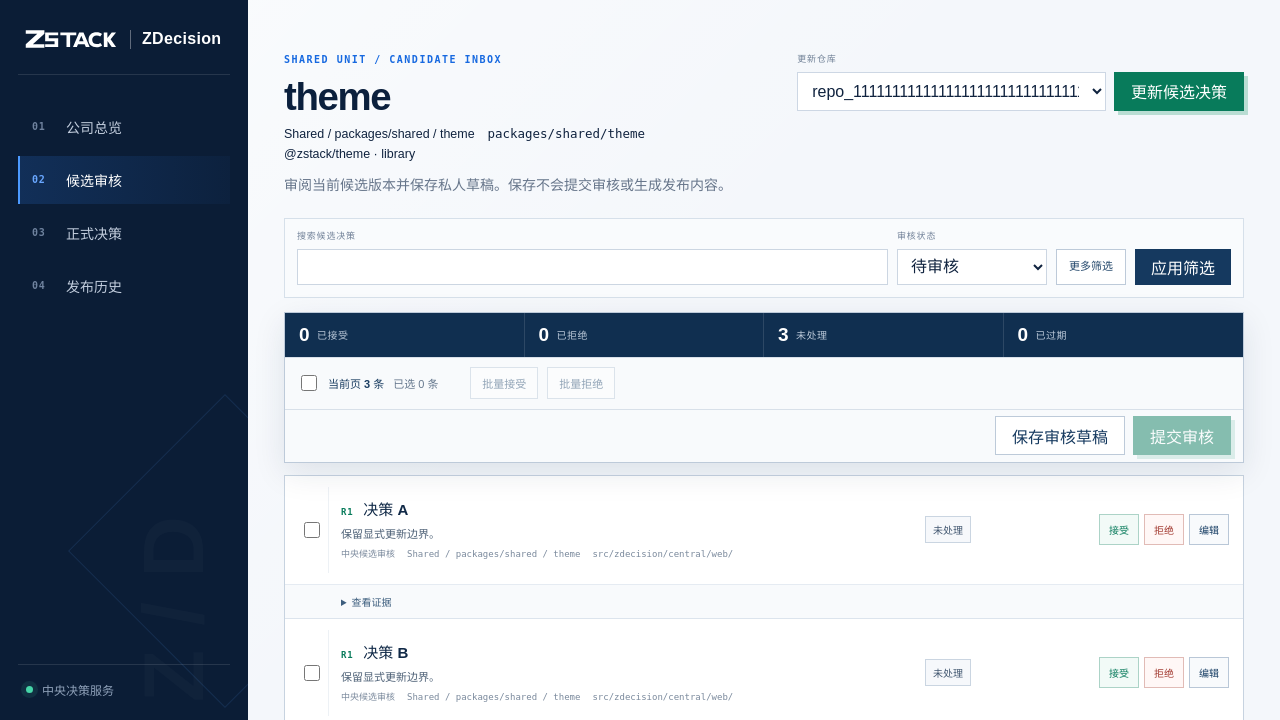
Test: does not treat Checkbox selection as acceptance
Expected: the heading "theme" is shown, [284,75,390,118]
Click the checkbox named "选择决策 A": click(312, 530) [304,522,320,538]
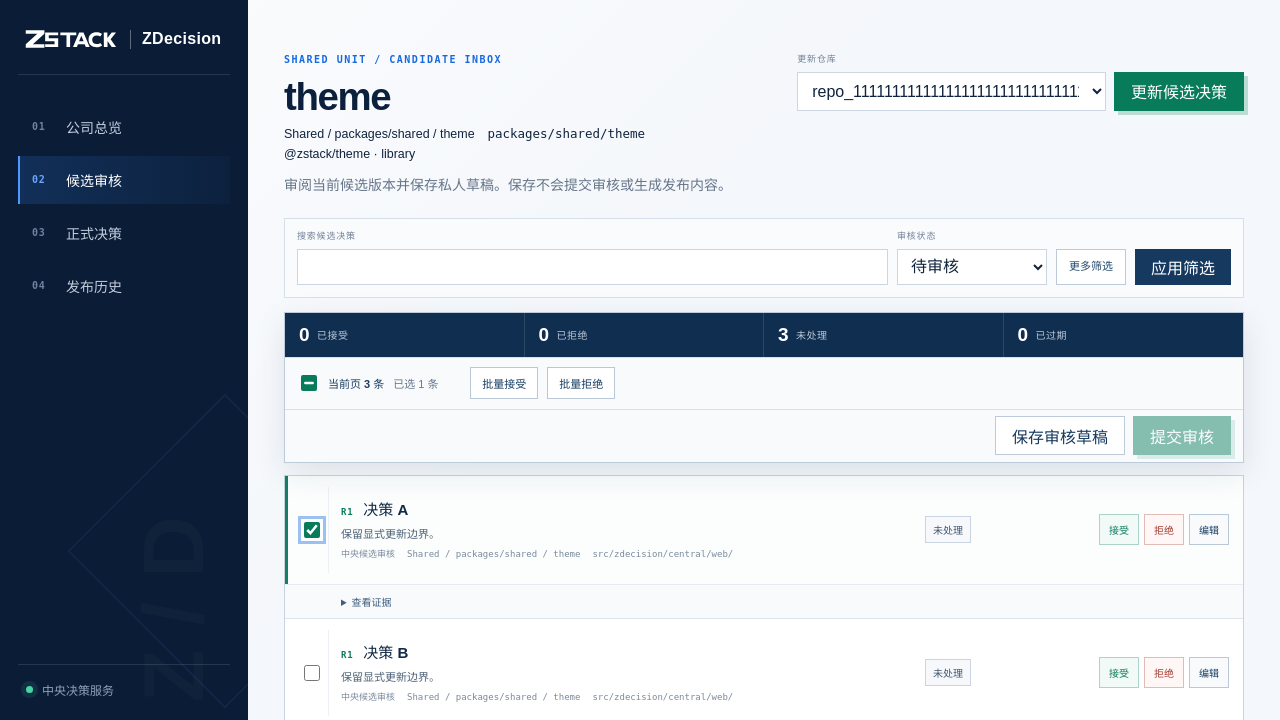
Expected: the 1st text "未处理" is shown, [925,516,971,543]
Result: the text "已选 1 条" is shown at [393,378,439,390]
